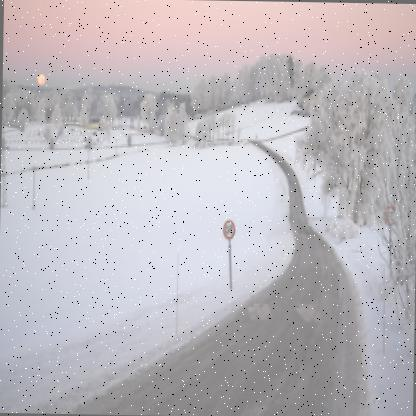speedlimit: (224, 218, 236, 236)
